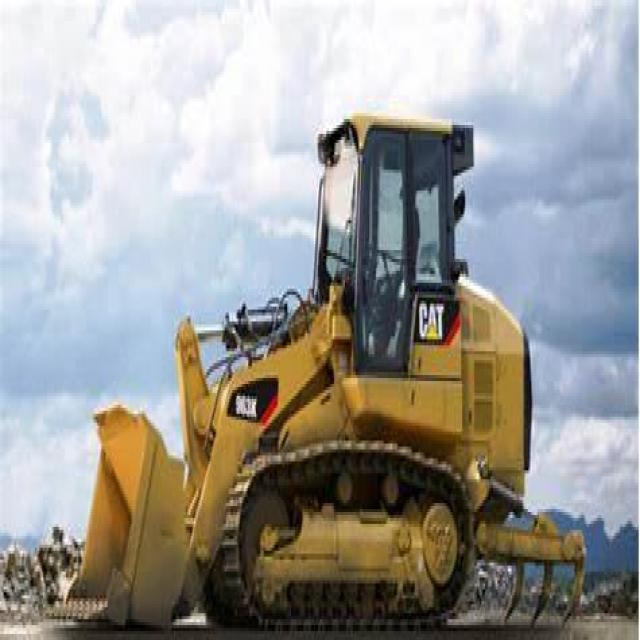Bulldozer: (58, 63, 606, 637)
